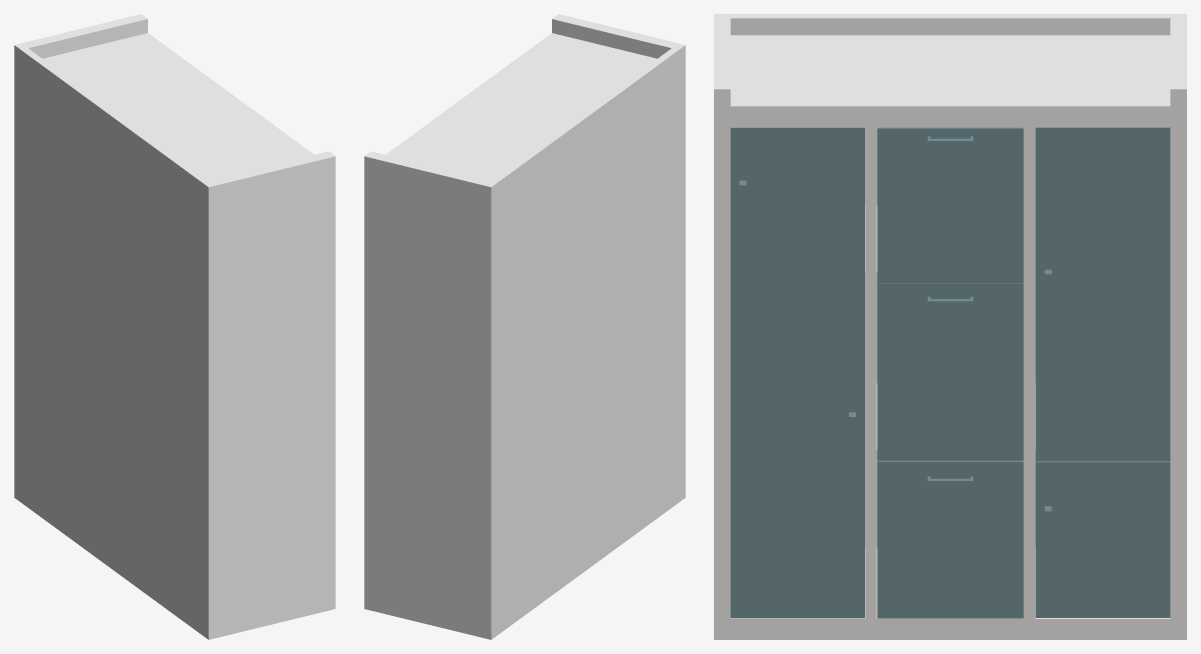
The model's file is Cabinet_Big.fbx.
The picture shows the model from 3 angles, left to right: view 1: azimuth 30°, elevation 25°; view 2: azimuth 150°, elevation 25°; view 3: azimuth 270°, elevation 25°; orthographic projection. The views are drawn at different scales.
Parts seen in each view (by area): view 1: Cabinet_Big; view 2: Cabinet_Big; view 3: Cabinet_Big, Cabinet_Big_Door.006, Cabinet_Big_Door.001, Cabinet_Big_Door.003, Cabinet_Big_Door.004, Cabinet_Big_Door.002, Cabinet_Big_Door.005, Cabinet_Big_Door.000.
Boxes of the visible parts, <box> form: Cabinet_Big: <box>14,14,335,639</box>; Cabinet_Big: <box>364,14,685,639</box>; Cabinet_Big: <box>714,14,1186,639</box>; Cabinet_Big_Door.006: <box>1035,127,1170,461</box>; Cabinet_Big_Door.001: <box>730,283,864,618</box>; Cabinet_Big_Door.003: <box>877,283,1023,460</box>; Cabinet_Big_Door.004: <box>877,460,1023,618</box>; Cabinet_Big_Door.002: <box>877,127,1023,283</box>; Cabinet_Big_Door.005: <box>1035,461,1170,617</box>; Cabinet_Big_Door.000: <box>730,127,864,283</box>.
Bounding box in the file's own units: 65.27 × 210 × 164.
